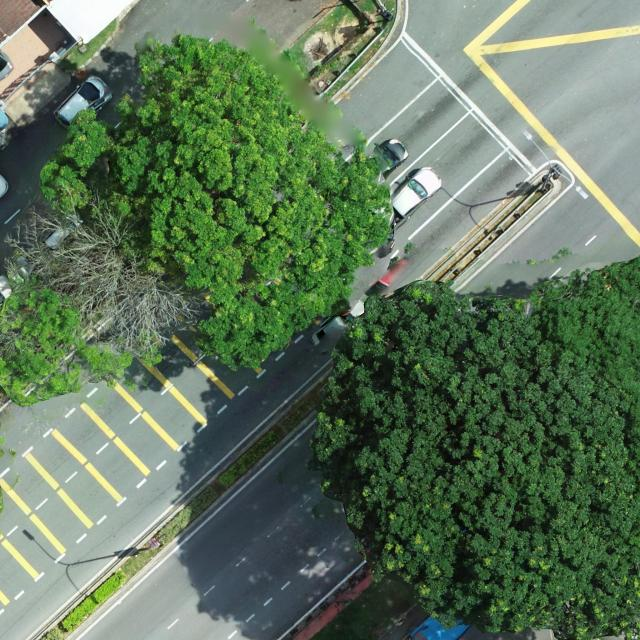Tree: (38, 31, 395, 372), (304, 279, 640, 640), (0, 181, 210, 363), (529, 255, 640, 482), (0, 272, 137, 408)
